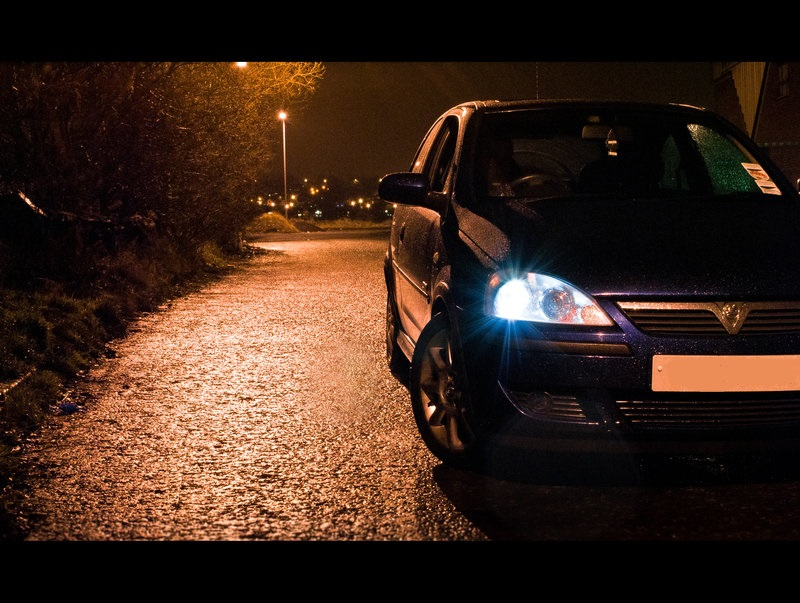car: (355, 88, 789, 490)
